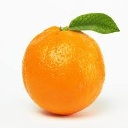orange: (21, 16, 107, 116)
